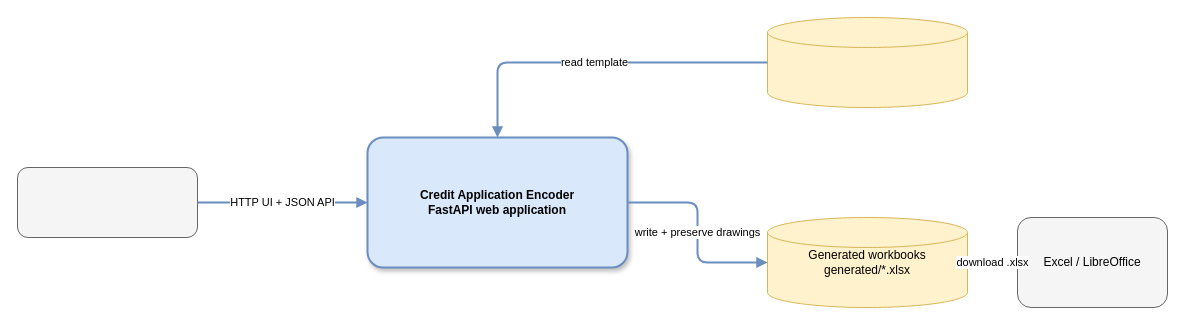
The diagram is 1185 pixels wide and 325 high, and some of its shapes have lost their labels. The shapes that lost their labels are listed below. From the top down, each one's centre as x and y in pixels, then its label:
At point 867,62: "Excel template excel_templates/*.xlsx".
At point 107,202: "Loan officer / reviewer".
